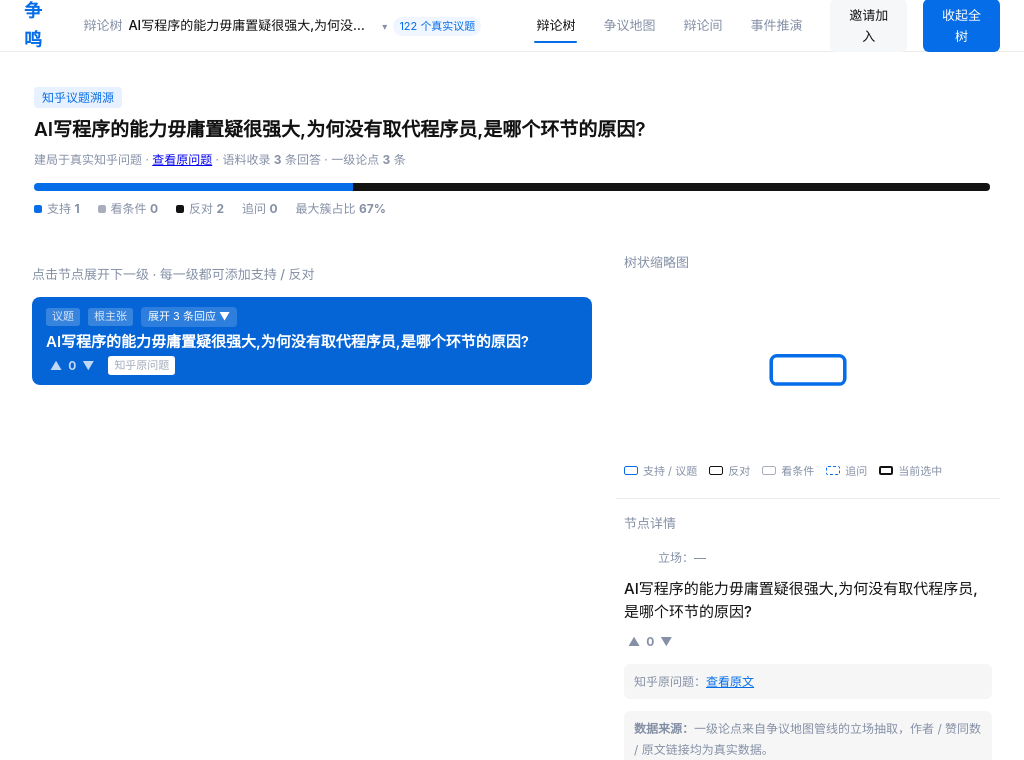
Test: 辩论树 · 参与行为 › 追问由自己署名，不再本地伪造 Agent 建议
Step 1. Click the button with aria-label "议题：" → (312, 341), box x1=32 y1=297 x2=592 y2=385
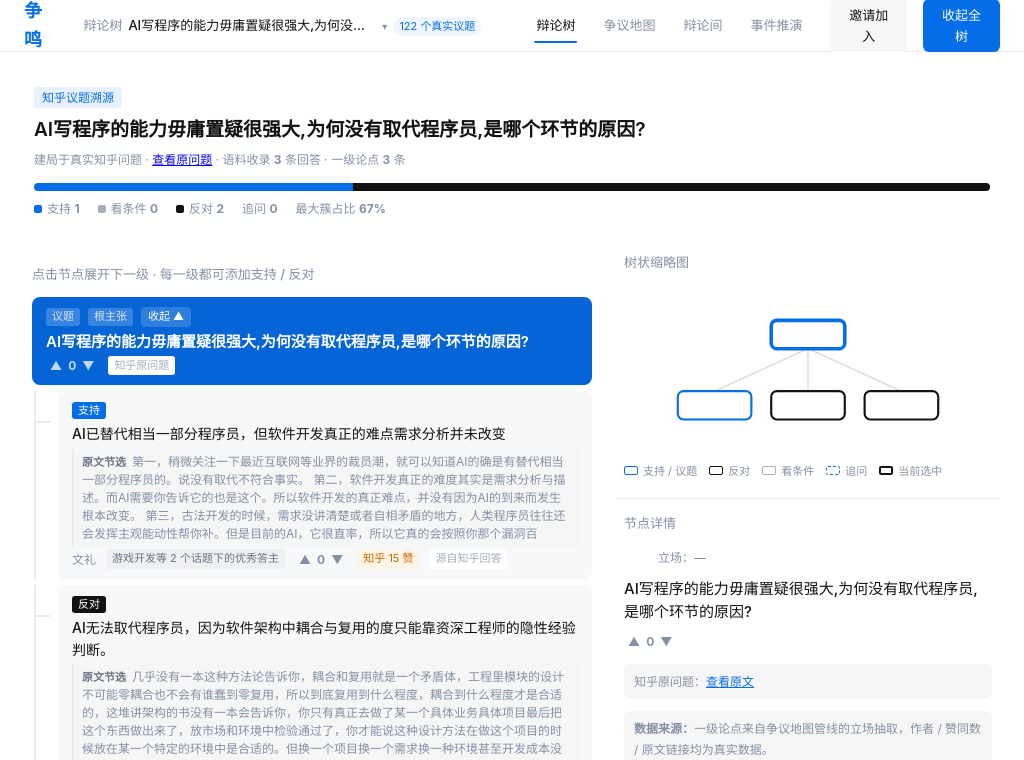
Step 2. Click the button with aria-label "支持：AI已替代相当一部分程序员，但软件开发真正的难点需求分析并未改变" → (325, 485), box x1=58 y1=391 x2=592 y2=579
(page scrolled)
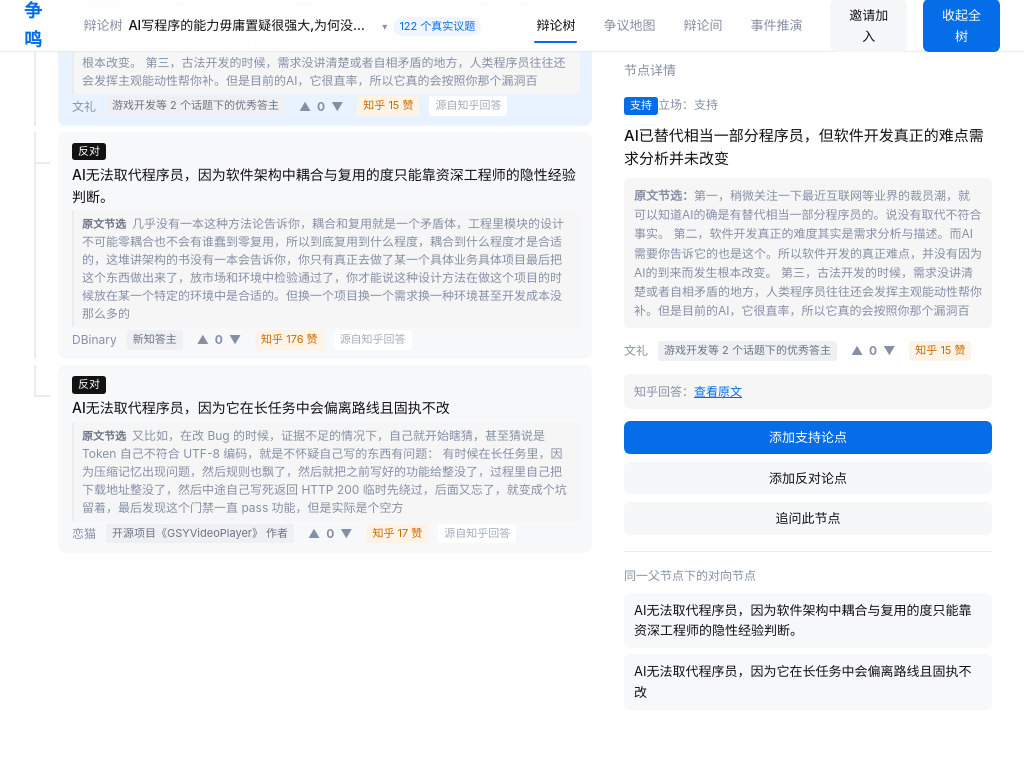
Step 3. Click the button "追问此节点" → (808, 519), box x1=624 y1=502 x2=992 y2=535
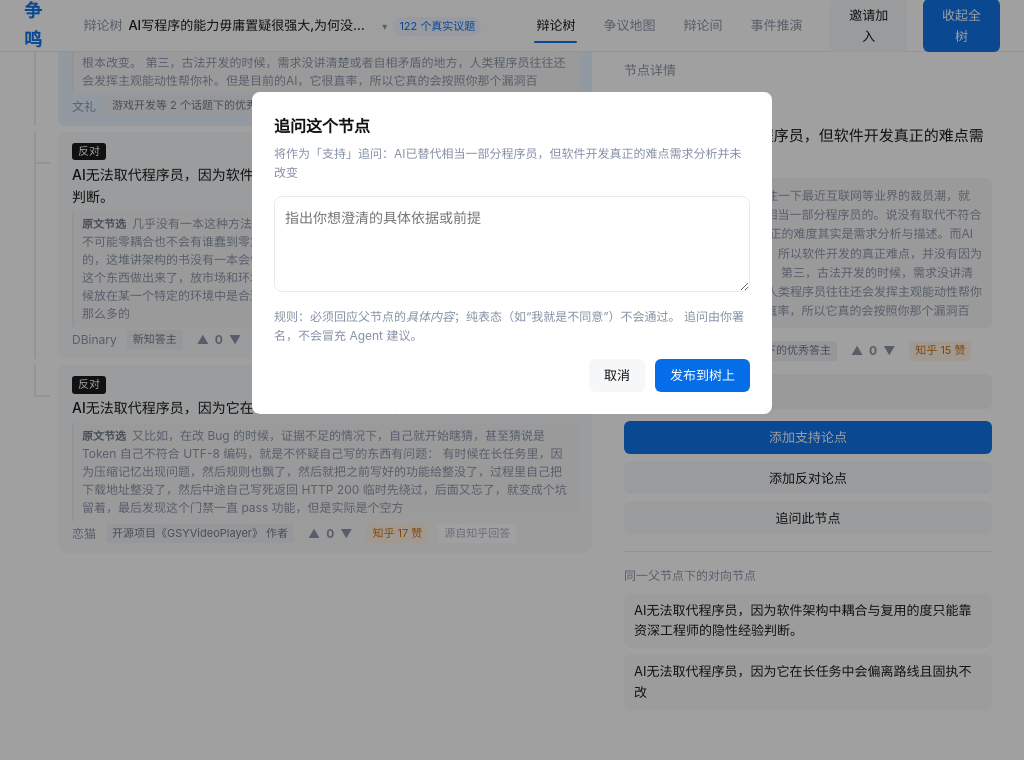
Step 4. Type "这条论据的依据是什么？" into the text box named "追问内容" → (512, 244), box x1=274 y1=196 x2=750 y2=292
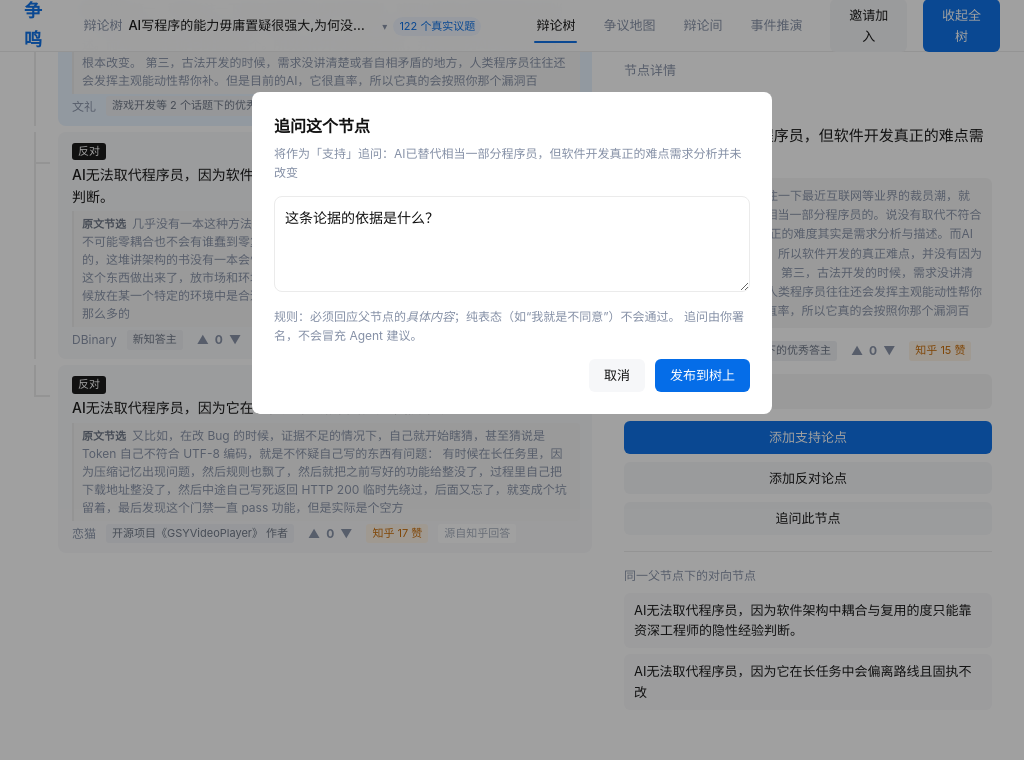
Step 5. Click the button "发布到树上" → (702, 375), box x1=655 y1=359 x2=750 y2=392
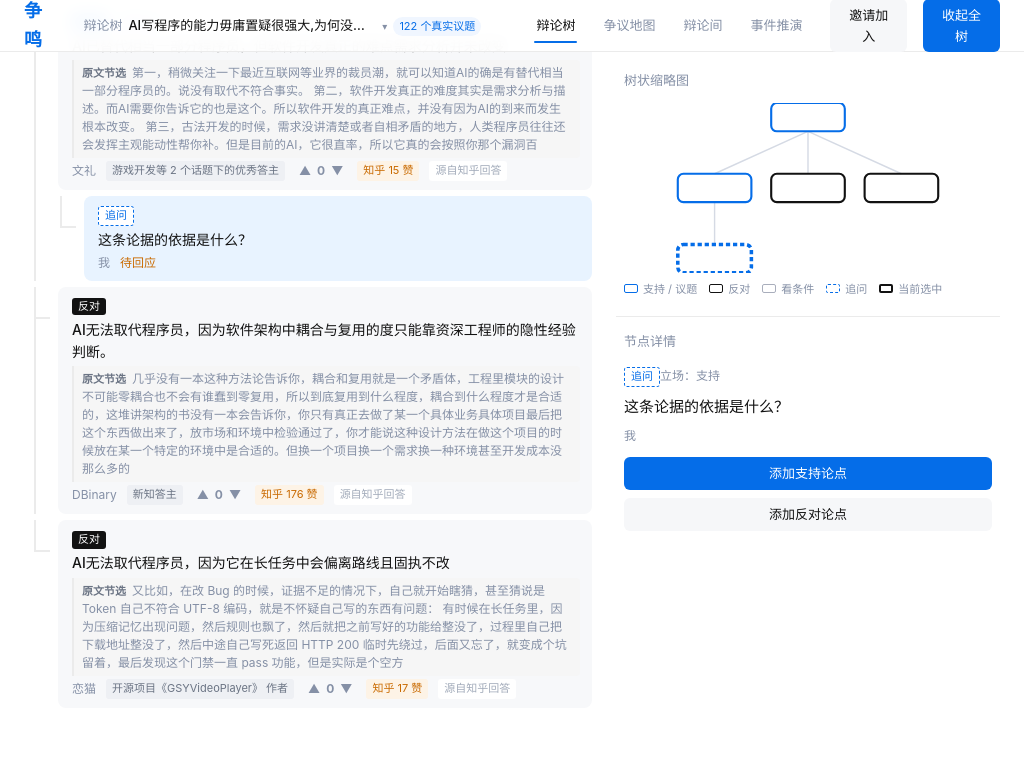
Expected: the text "这条论据的依据是什么？" is shown, x1=98 y1=231 x2=252 y2=248
Expected: the text "待回应" is shown, x1=120 y1=253 x2=156 y2=272
